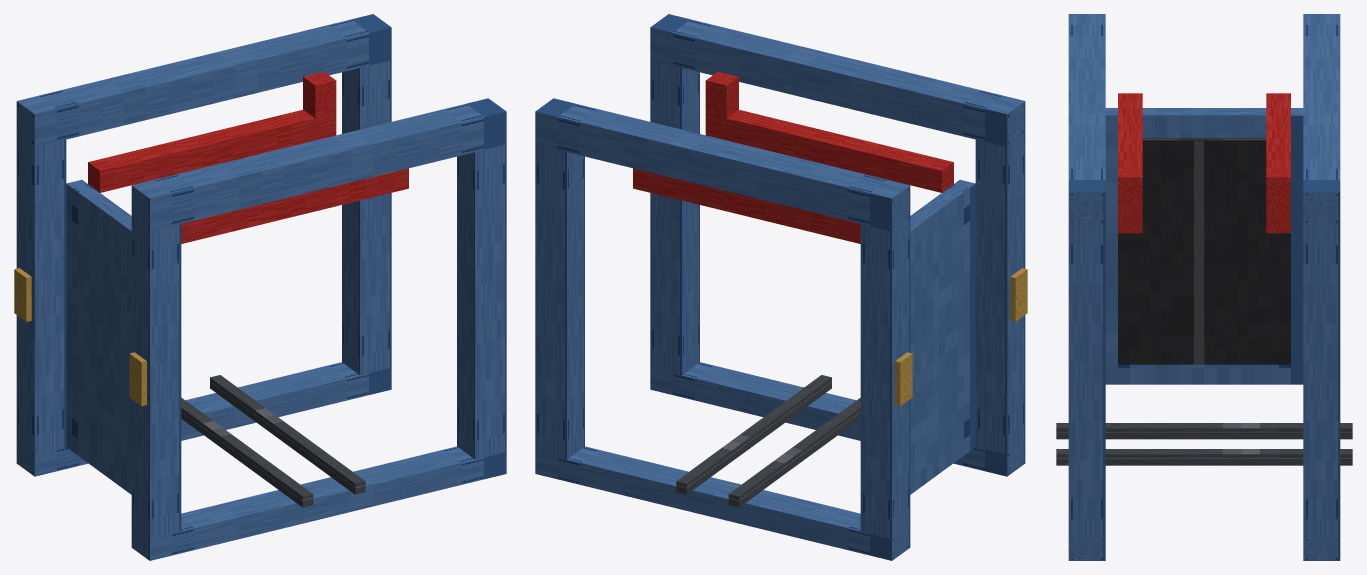
The model's file is car_dumper_cradle.obj.
The picture shows the model from 3 angles, left to right: view 1: azimuth 30°, elevation 25°; view 2: azimuth 150°, elevation 25°; view 3: azimuth 270°, elevation 25°; orthographic projection.
Parts seen in each view (by area): view 1: ring_top_b, ring_top_f, platen, ring_r_b, ring_l_f, ring_l_b, ring_bot_b, ring_r_f, clamp_1, ring_bot_f, clamp_2, rails_r (+4 smaller); view 2: ring_top_f, ring_top_b, platen, ring_r_f, ring_l_b, ring_l_f, ring_bot_f, ring_r_b, clamp_2, ring_bot_b, clamp_1, rails_r (+4 smaller); view 3: platen_pad, platen, ring_r_f, ring_r_b, ring_top_f, ring_top_b, rails_r, rails_l, clamp_1, clamp_2, clamp_cyl_1, clamp_cyl_2 (+2 smaller).
Part boxes in pixels (<box>): ring_top_b: <box>131,98,506,231</box>; ring_top_f: <box>16,14,391,146</box>; platen: <box>66,179,131,494</box>; ring_r_b: <box>457,144,506,459</box>; ring_l_f: <box>16,134,66,454</box>; ring_l_b: <box>131,218,181,538</box>; ring_bot_b: <box>131,446,506,560</box>; ring_r_f: <box>342,60,391,375</box>; clamp_1: <box>88,110,336,192</box>; ring_bot_f: <box>16,362,391,476</box>; clamp_2: <box>181,168,408,243</box>; rails_r: <box>210,375,365,494</box>; ring_top_f: <box>535,98,910,231</box>; ring_top_b: <box>650,14,1025,146</box>; platen: <box>910,179,975,494</box>; ring_r_f: <box>535,144,584,459</box>; ring_l_b: <box>975,134,1025,454</box>; ring_l_f: <box>860,218,910,538</box>; ring_bot_f: <box>535,446,910,560</box>; ring_r_b: <box>650,60,699,375</box>; clamp_2: <box>705,110,953,192</box>; ring_bot_b: <box>650,362,1025,476</box>; clamp_1: <box>633,168,860,243</box>; rails_r: <box>676,375,831,494</box>; platen_pad: <box>1118,138,1290,364</box>; platen: <box>1105,108,1303,384</box>; ring_r_f: <box>1303,225,1340,538</box>; ring_r_b: <box>1068,225,1105,538</box>; ring_top_f: <box>1303,14,1340,224</box>; ring_top_b: <box>1068,14,1105,224</box>; rails_r: <box>1056,449,1352,465</box>; rails_l: <box>1056,423,1352,439</box>; clamp_1: <box>1266,93,1290,233</box>; clamp_2: <box>1118,93,1142,233</box>; clamp_cyl_1: <box>1266,167,1290,210</box>; clamp_cyl_2: <box>1118,167,1142,210</box>.
Bounding box in the file's own units: 4.31 × 4.12 × 3.
